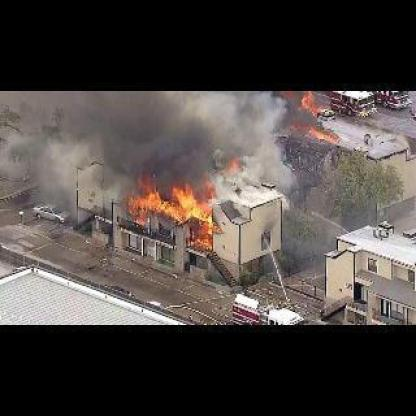Fire: (119, 196, 229, 262)
Smoke: (3, 92, 294, 194)
